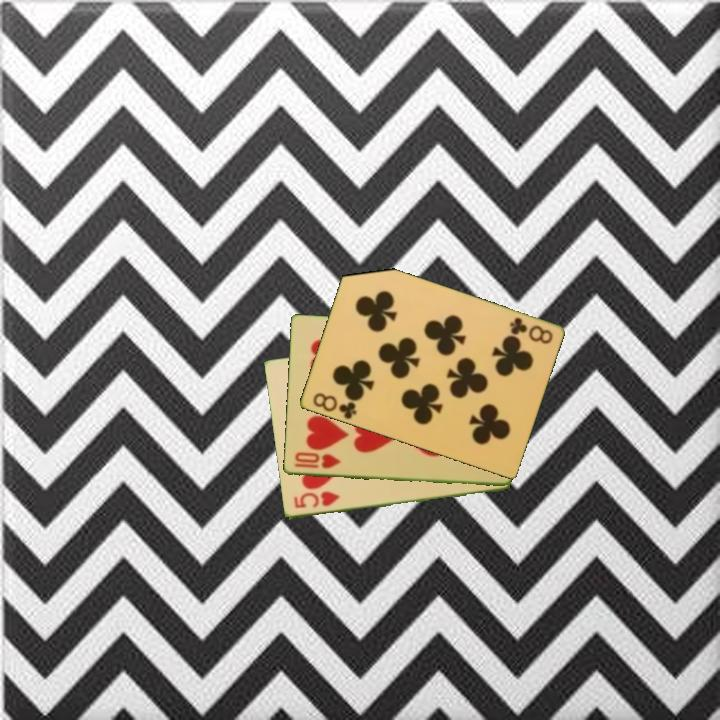10h: (291, 450, 343, 472)
5h: (290, 488, 343, 512)
8c: (309, 389, 359, 422), (506, 314, 555, 347)
